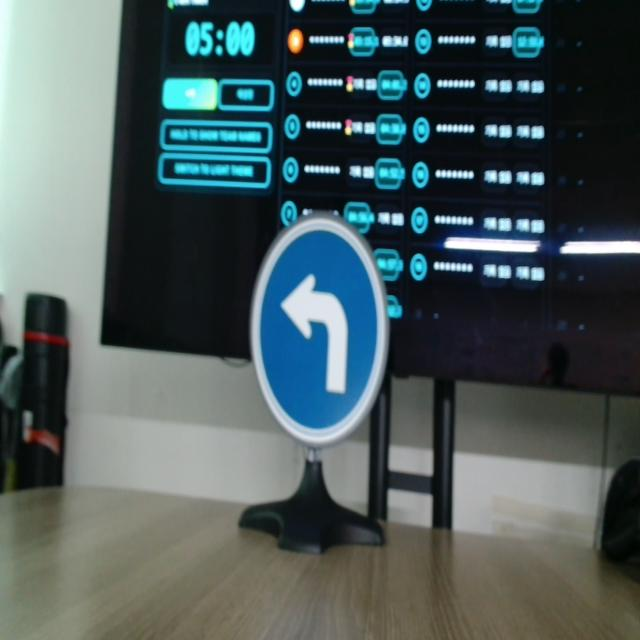left_direction: (248, 219, 390, 443)
